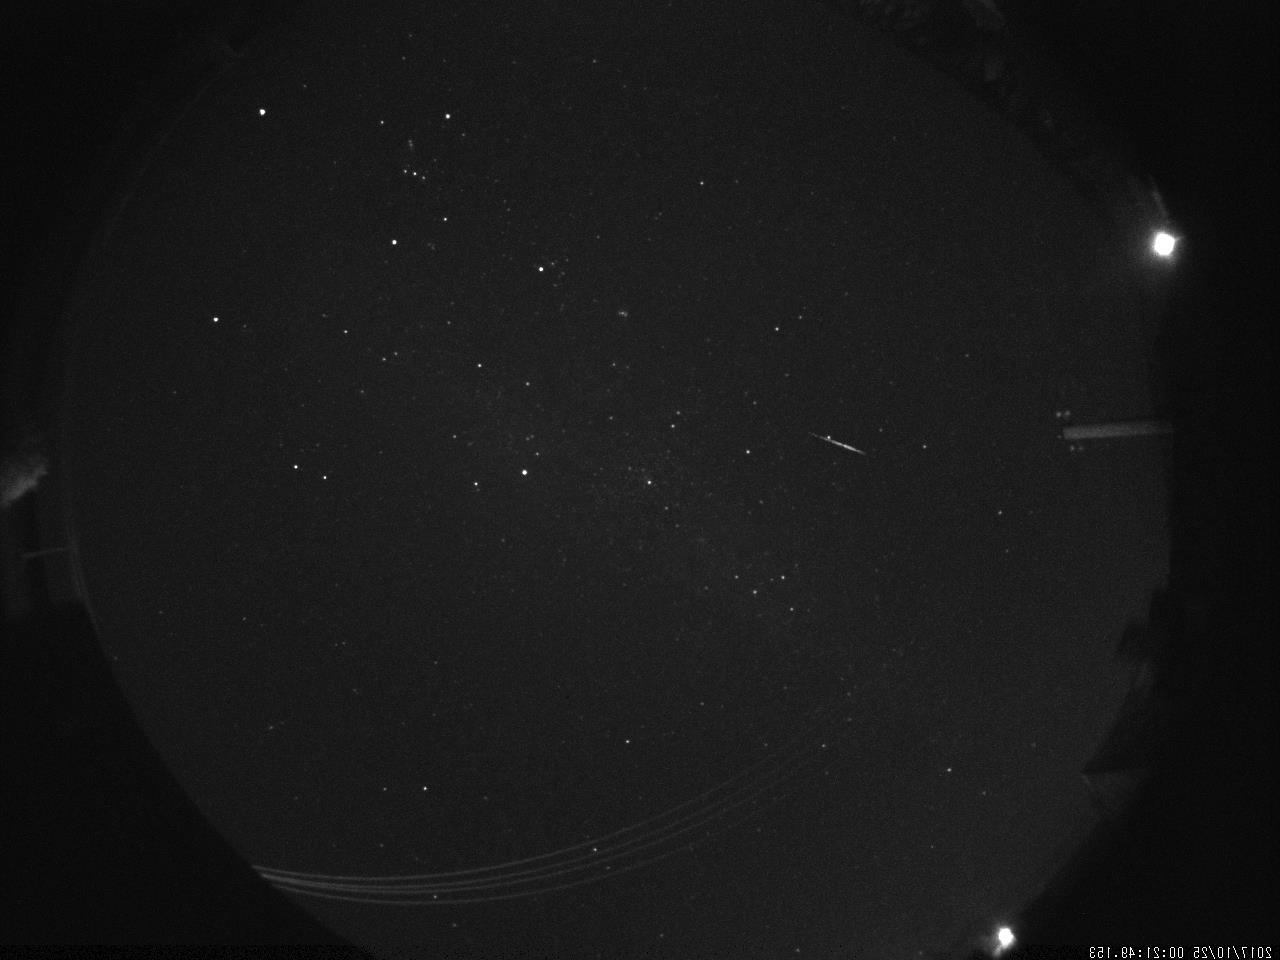meteor: (807, 431, 870, 461)
